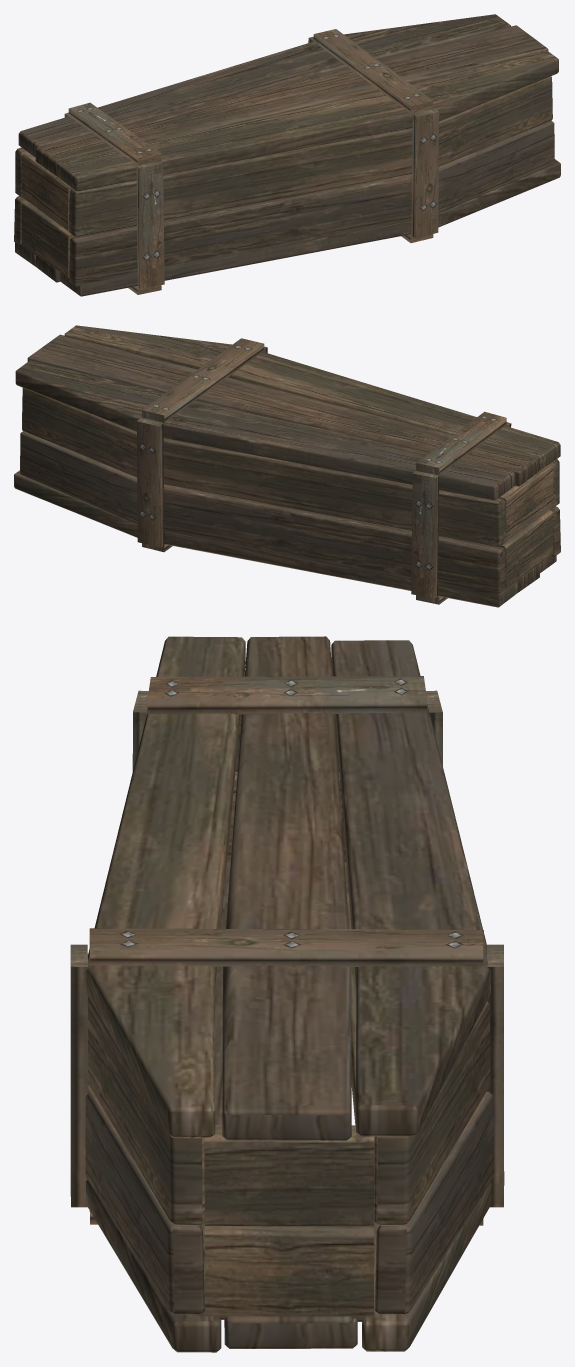
File: coffin.glb
3 views of the same model, one above another, from view 1: azimuth 30°, elevation 25°; view 2: azimuth 150°, elevation 25°; view 3: azimuth 270°, elevation 25° (orthographic). The views are drawn at different scales.
Parts seen in each view (by area): view 1: coffin_LOD0; view 2: coffin_LOD0; view 3: coffin_LOD0.
Part boxes in pixels (x1,y1,x2,y2): coffin_LOD0: [14, 14, 560, 296]; coffin_LOD0: [14, 325, 560, 607]; coffin_LOD0: [70, 636, 504, 1352].
Size of the model in its own units: 2.37 by 0.6358 by 0.9123.
1 material, 1 textured.
